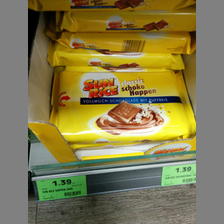chocolate: (49, 70, 193, 140)
